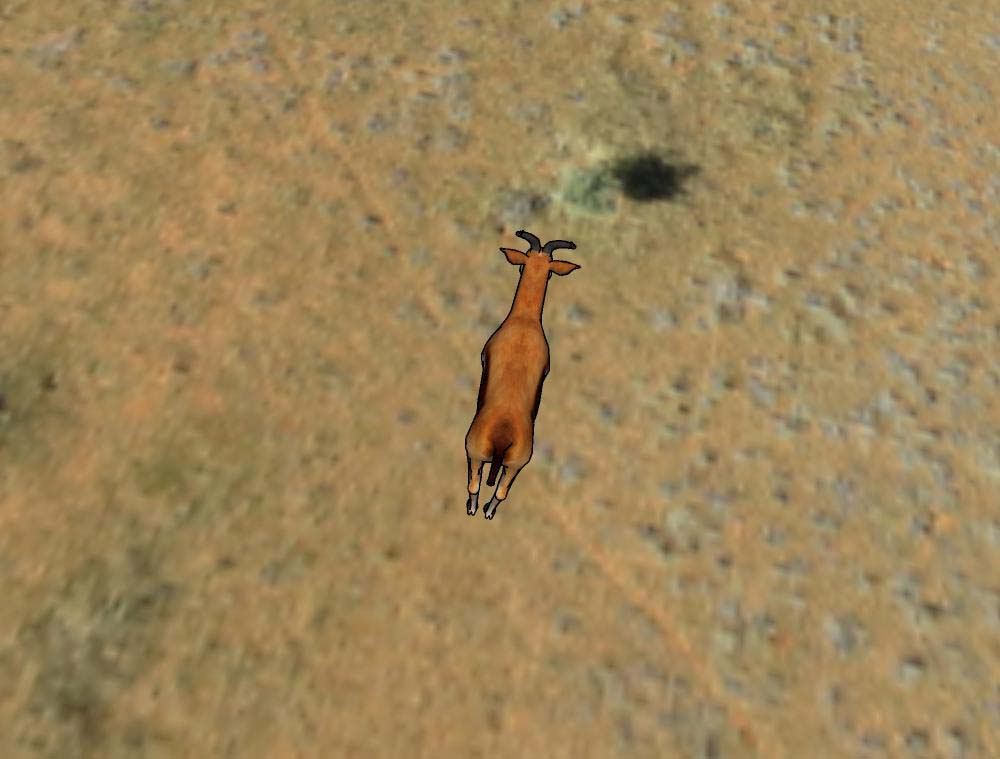springbok: (460, 226, 583, 528)
